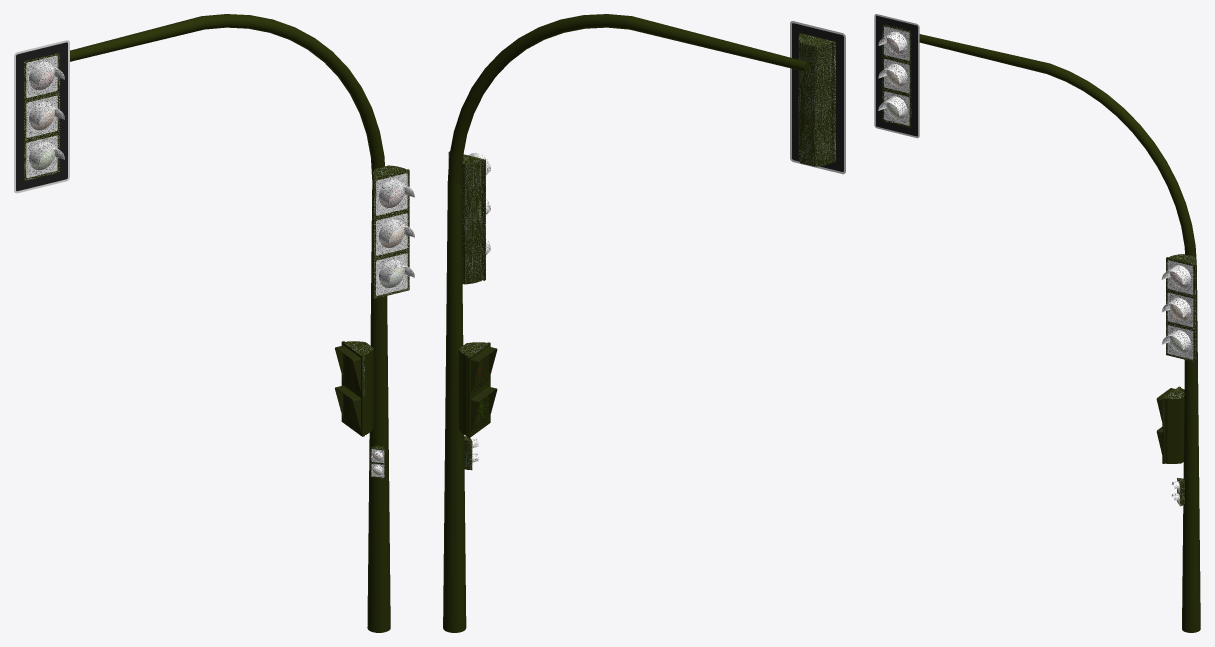
Rendered from SemaforoLargo.fbx.
3 views of the same model, side by side, from view 1: azimuth 30°, elevation 25°; view 2: azimuth 150°, elevation 25°; view 3: azimuth 330°, elevation 25° (orthographic). The views are drawn at different scales.
Parts seen in each view (by area): view 1: Group1; view 2: Group1; view 3: Group1.
Part boxes in pixels (<box>): Group1: <box>14,14,414,632</box>; Group1: <box>443,14,845,632</box>; Group1: <box>874,14,1200,632</box>.
Bounding box in the file's own units: 3.93 × 6.43 × 0.5886.
